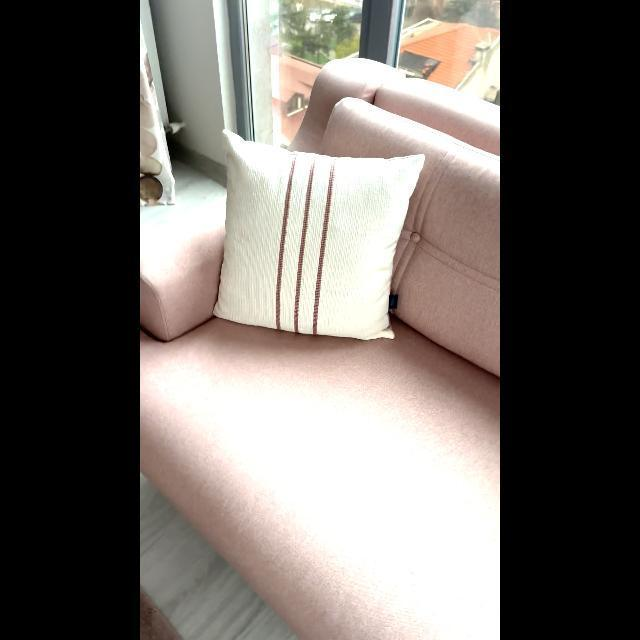throw pillow: (220, 110, 430, 368)
